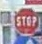stop: (13, 6, 39, 35)
